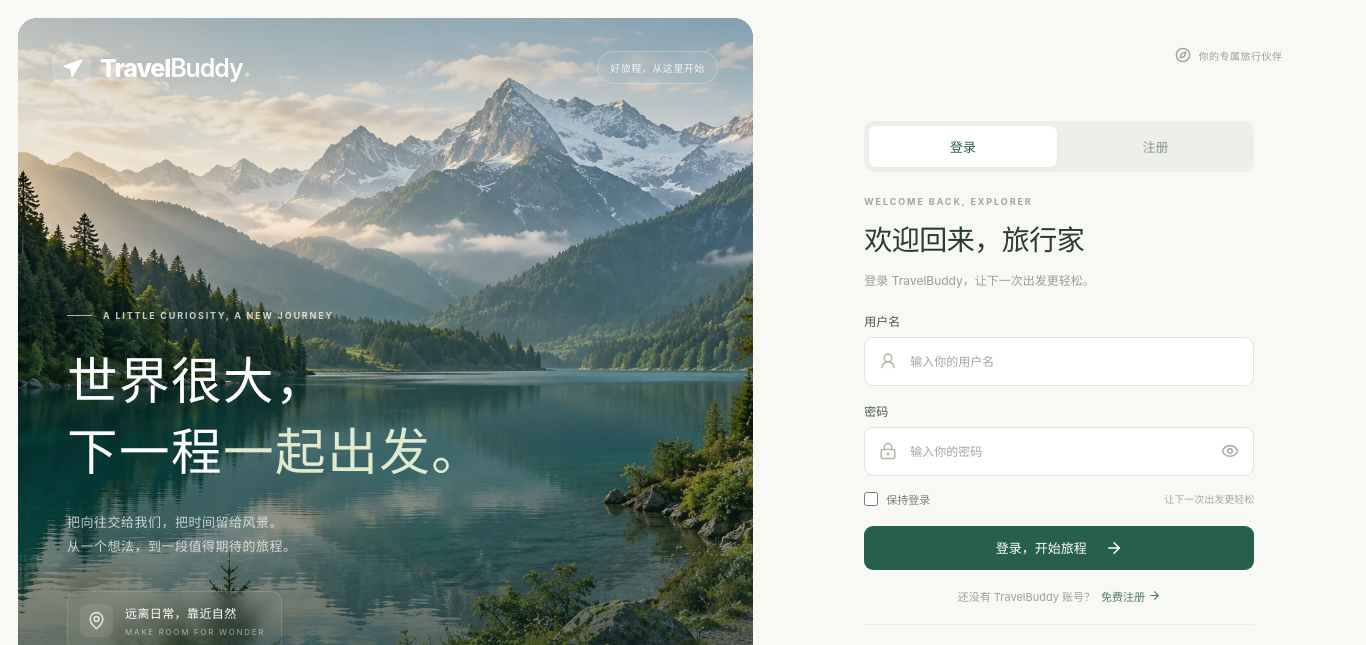
登录与注册 › 选择保持登录时保存令牌到本地存储
Type " traveler " into the field labelled "用户名" at {"x": 1074, "y": 361}, box [908,338,1239,385]
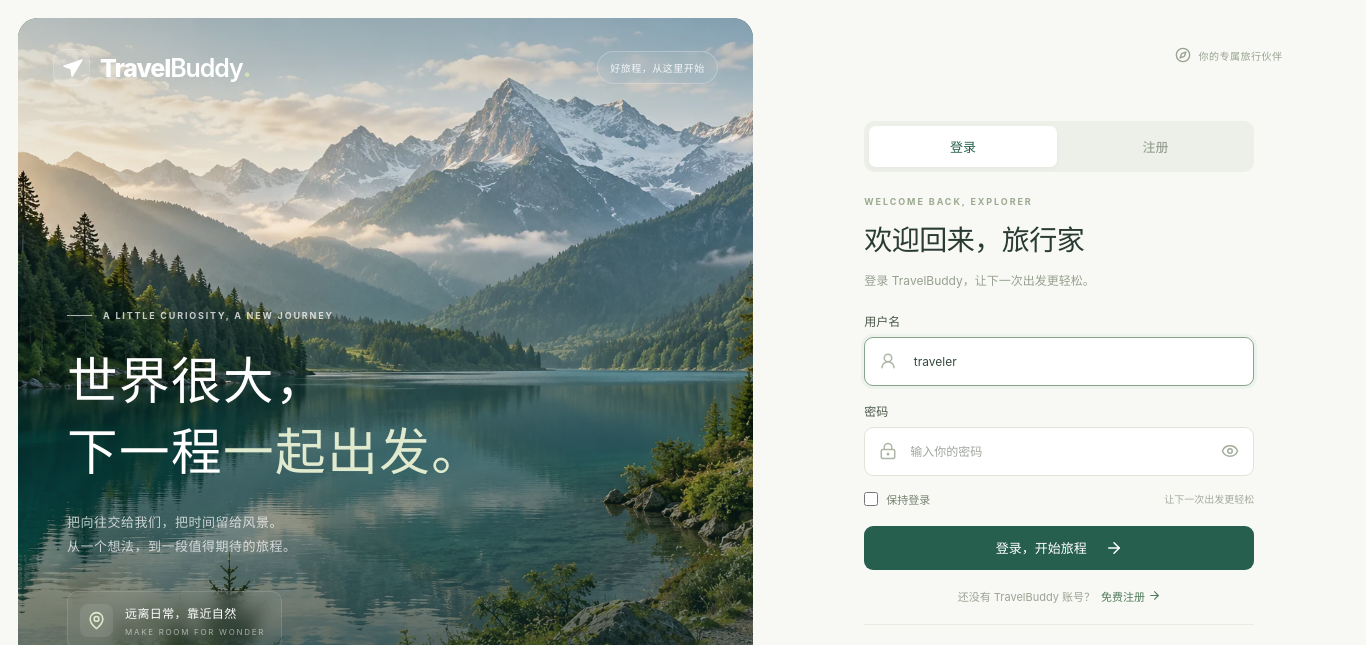
Type "test-password" into the password field labelled "密码" at {"x": 1057, "y": 451}, box [908,428,1206,475]
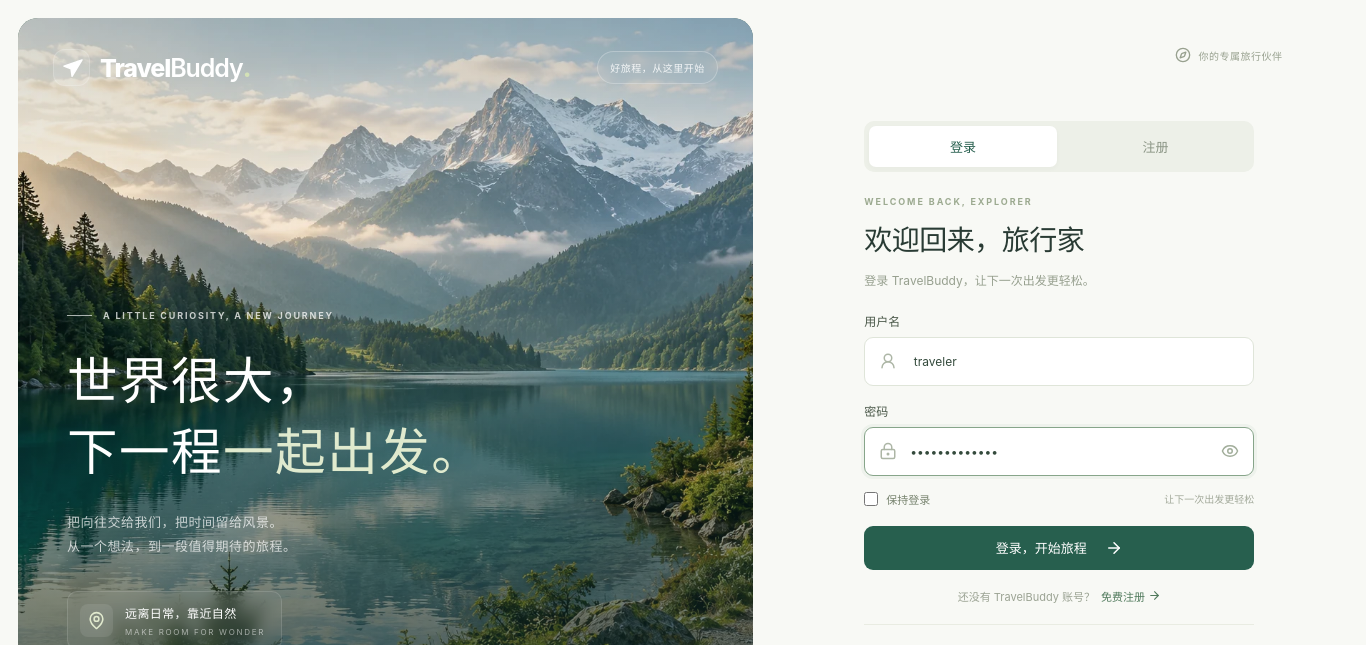
Click the checkbox labelled "保持登录 让下一次出发更轻松" at {"x": 871, "y": 499}, box [864,492,878,506]
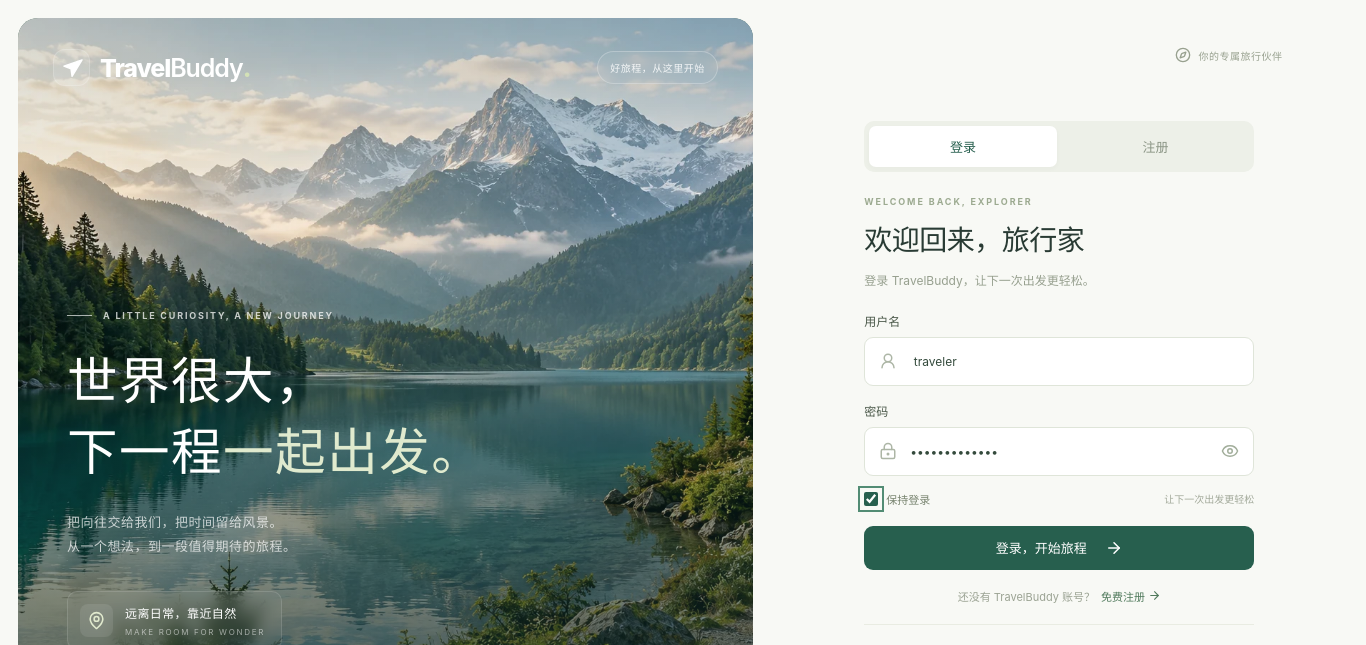
Click the button "登录，开始旅程" at {"x": 1059, "y": 548}, box [864,526,1254,570]
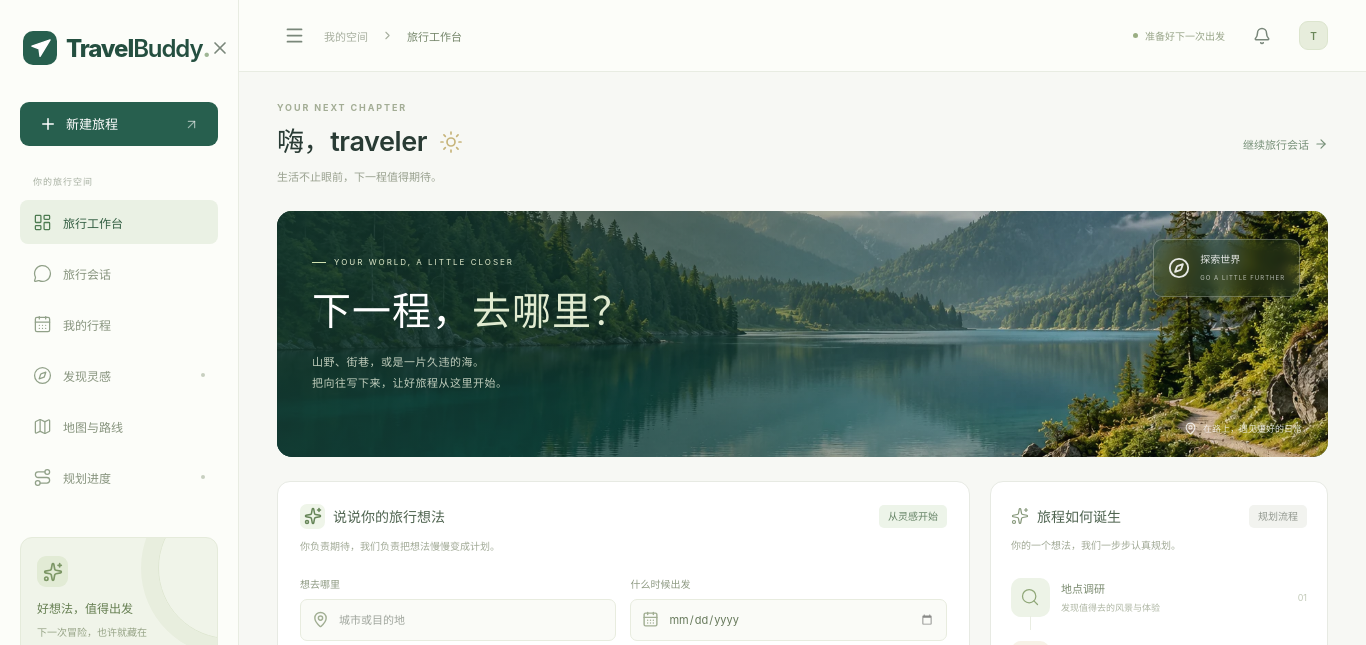
Now the heading "嗨，traveler" is shown, box [277,122,463,161]
